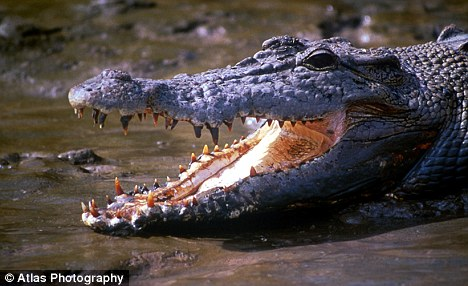Crocodile: (66, 24, 468, 243)
